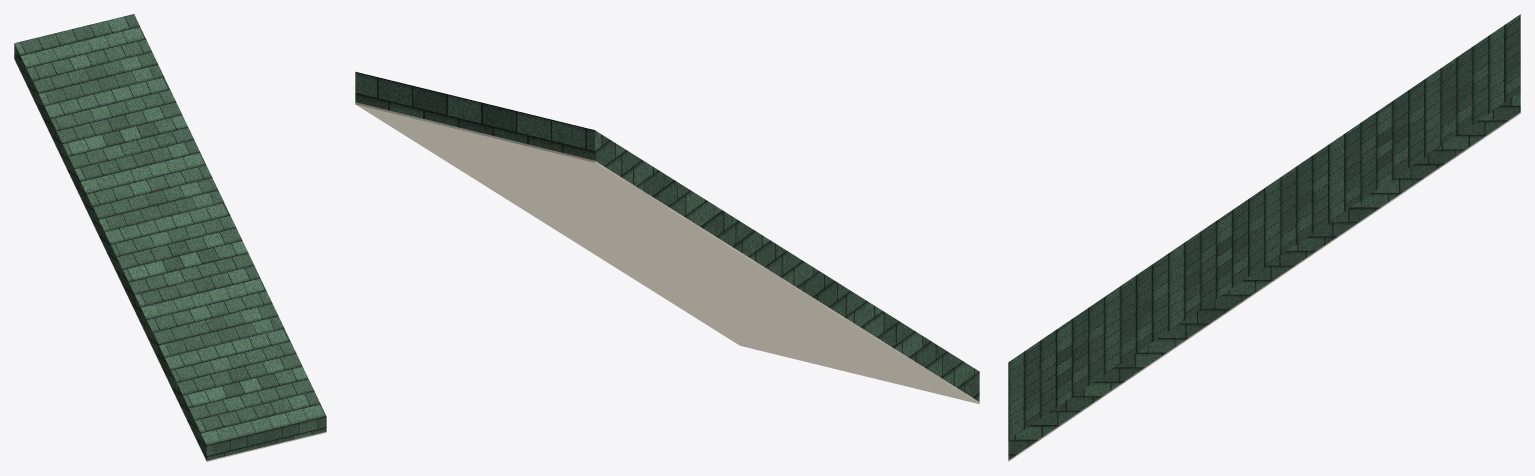
File: roof_slope_end_l.glb
The picture shows the model from 3 angles, left to right: view 1: azimuth 30°, elevation 25°; view 2: azimuth 150°, elevation 25°; view 3: azimuth 270°, elevation 25°; orthographic projection. The views are drawn at different scales.
Parts seen in each view (by area): view 1: roof_slope_end_l_shingle, roof_slope_end_l_plaster; view 2: roof_slope_end_l_plaster, roof_slope_end_l_shingle; view 3: roof_slope_end_l_shingle, roof_slope_end_l_plaster.
Boxes of the visible parts, bbox=[...] form: roof_slope_end_l_shingle: bbox=[14, 14, 326, 460]; roof_slope_end_l_plaster: bbox=[14, 59, 326, 461]; roof_slope_end_l_plaster: bbox=[355, 102, 979, 404]; roof_slope_end_l_shingle: bbox=[355, 71, 979, 401]; roof_slope_end_l_shingle: bbox=[1008, 14, 1520, 459]; roof_slope_end_l_plaster: bbox=[1008, 112, 1520, 461].
Bounding box in the file's own units: 2.3 × 5.1 × 6.4.
2 materials, 2 textured.
